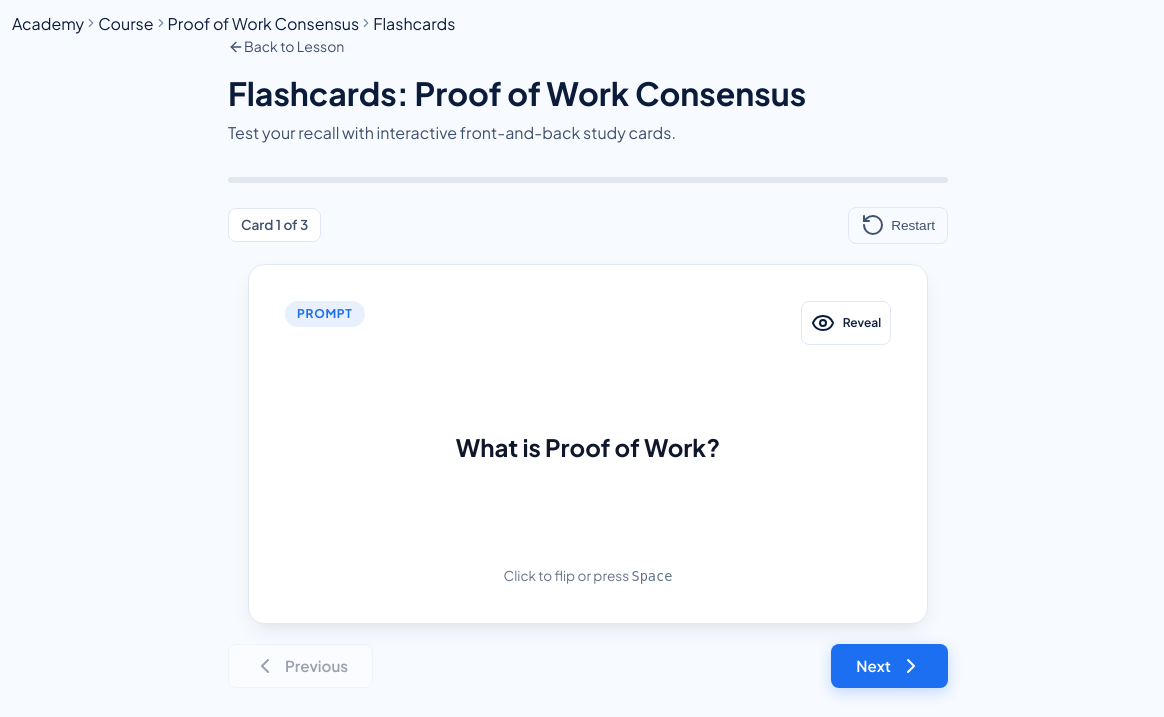
Scenario: FlashcardReviewPage (FEAT-022: AC-001..AC-018) › mounts back section and answer into DOM upon clicking Reveal Answer
Click the button with test id "flashcard-reveal-button": (846, 323) [801,301,891,345]
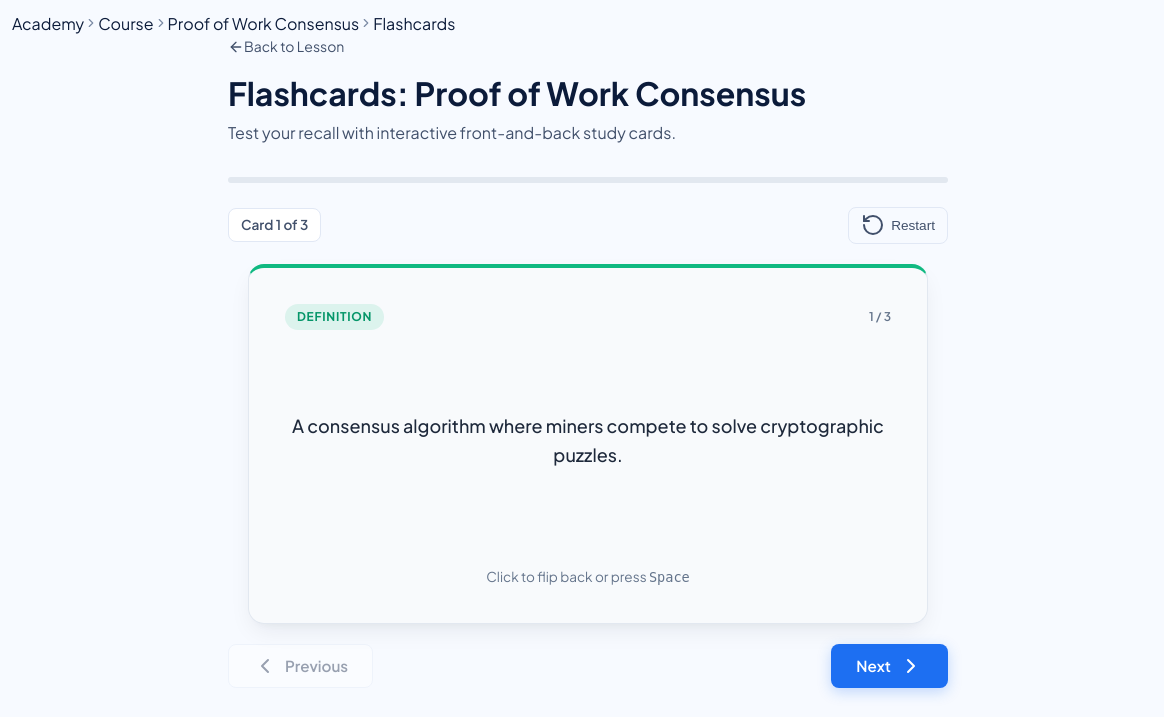
Check: the element with test id "flashcard-back-section" is shown, box [248,264,928,624]
Check: the text "A consensus algorithm where miners compete to solve cryptographic puzzles." is shown, box [285,410,891,470]
Check: the button with test id "flashcard-reveal-button" is gone
